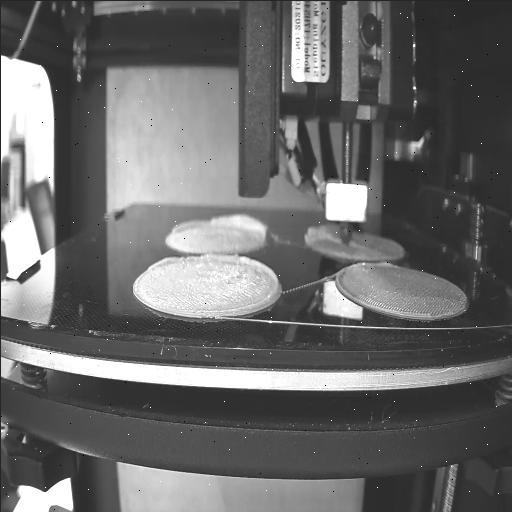over_extrusion: (205, 252, 278, 312), (209, 208, 273, 240), (302, 222, 338, 244), (147, 251, 184, 270), (168, 216, 202, 232), (350, 239, 366, 254), (374, 258, 388, 266)
